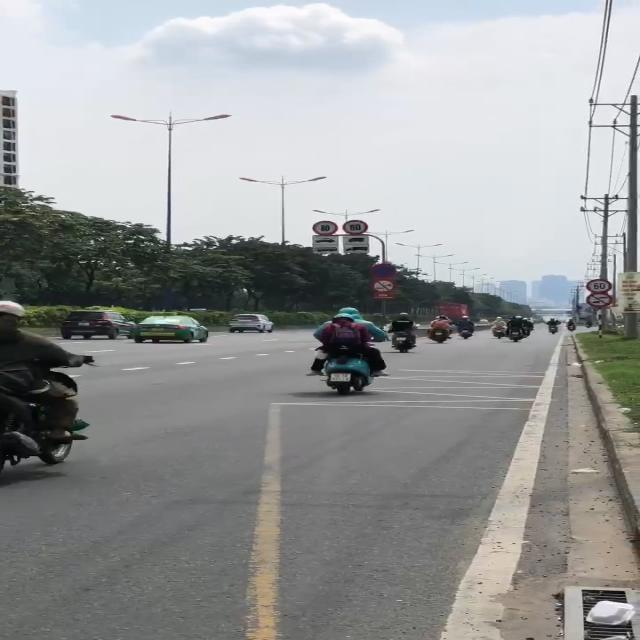Bien bao toc do toi da cho phep: (342, 218, 372, 234), (584, 277, 612, 293), (311, 220, 337, 235)
